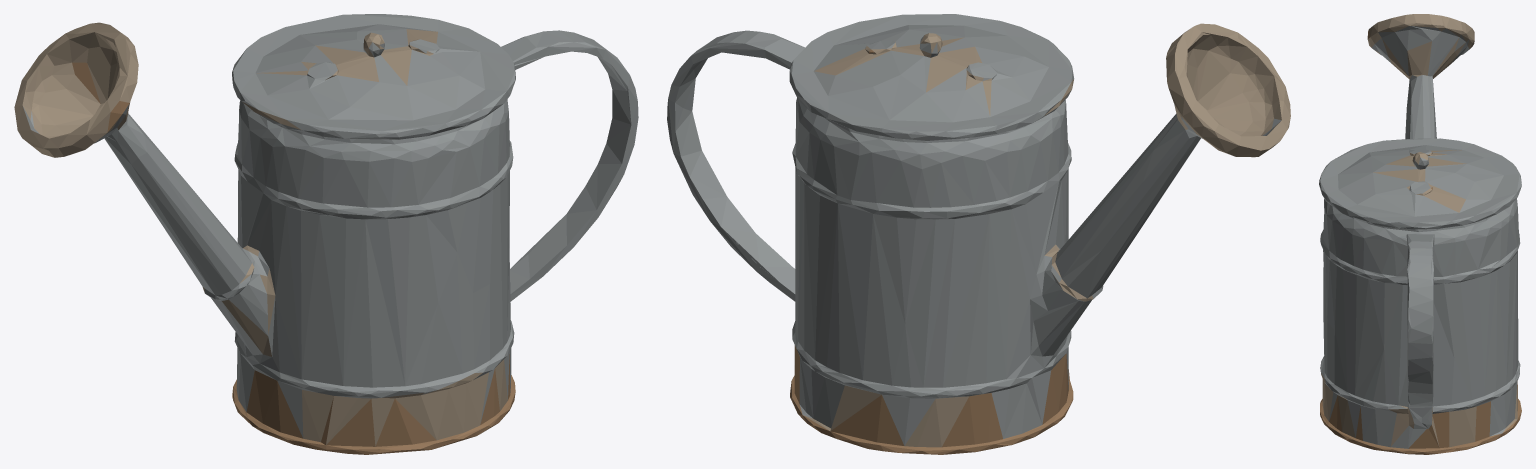
File: watering_can.glb
3 renders of one model, left to right at view 1: azimuth 30°, elevation 25°; view 2: azimuth 150°, elevation 25°; view 3: azimuth 270°, elevation 25°, orthographic. The views are drawn at different scales.
Visible parts, largest first — view 1: geometry_0; view 2: geometry_0; view 3: geometry_0.
Part boxes in pixels (x1,y1,x2,y2): geometry_0: (14,14,638,454); geometry_0: (667,14,1290,454); geometry_0: (1319,14,1521,454).
Size of the model in its own units: 0.6597 by 0.45 by 0.2689.
